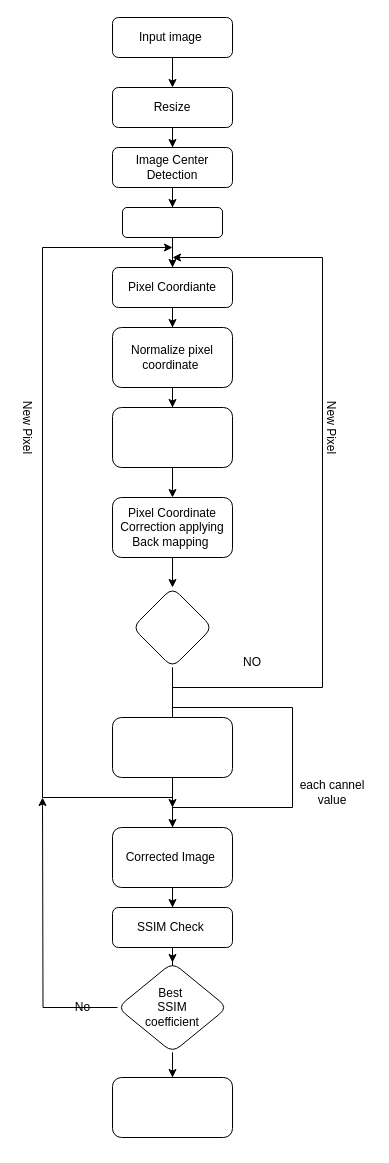
Some shapes in this 389 by 1163 pixel diagram are drawn without their labels. Here are the shapes that lost their labels. From the top down, the box of each, then its label:
(122, 206, 222, 238): Correction Coefficients
(112, 406, 232, 468): Radial Distance of Pixel form the center
(132, 586, 212, 668): Within boundary
(112, 716, 232, 778): map corrected pixel coordinates and channels to corrected Image
(112, 1076, 232, 1138): Output Image
